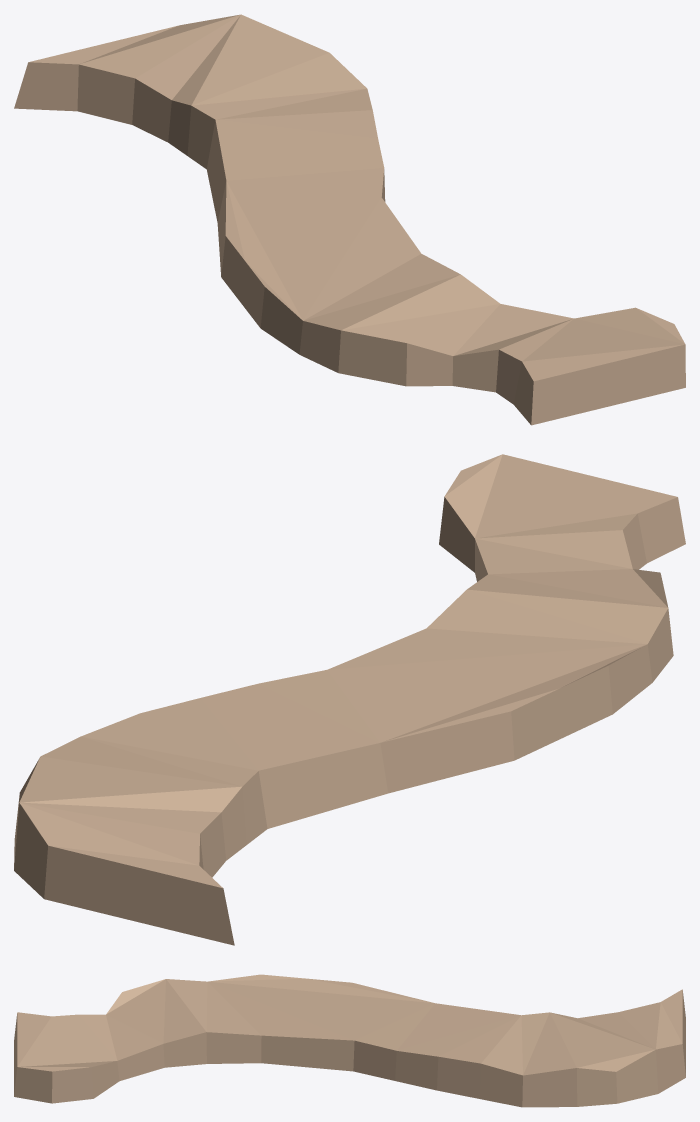
File: Road.fbx
3 renders of one model, top to bottom at view 1: azimuth 30°, elevation 25°; view 2: azimuth 150°, elevation 25°; view 3: azimuth 270°, elevation 25°, orthographic. The views are drawn at different scales.
Parts seen in each view (by area): view 1: road; view 2: road; view 3: road.
Boxes of the visible parts, x1=… form: road: x1=14, y1=14, x2=685, y2=425; road: x1=14, y1=454, x2=685, y2=945; road: x1=14, y1=974, x2=685, y2=1107.
Size of the model in its own units: 5.09 by 0.9905 by 13.92.
